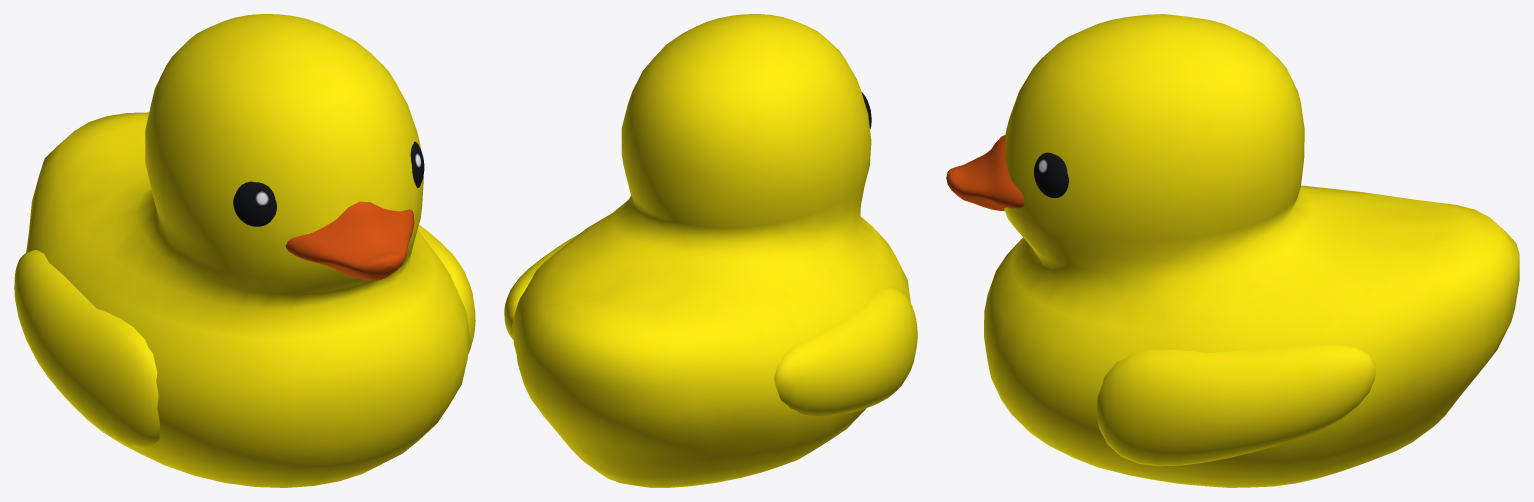
Rendered from rubber-duck-transformed.glb.
The picture shows the model from 3 angles, left to right: view 1: azimuth 30°, elevation 25°; view 2: azimuth 150°, elevation 25°; view 3: azimuth 270°, elevation 25°; orthographic projection. The views are drawn at different scales.
Visible parts, largest first — view 1: defaultMaterial; view 2: defaultMaterial; view 3: defaultMaterial.
Boxes of the visible parts, x1,y1,x2,y2 form: defaultMaterial: (14, 14, 475, 487); defaultMaterial: (504, 14, 917, 487); defaultMaterial: (946, 14, 1519, 487).
Size of the model in its own units: 272 by 297 by 354.
1 material, 1 textured.
